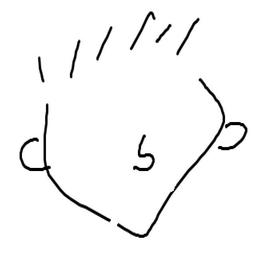ear: (14, 131, 55, 177), (211, 116, 250, 153)
nose: (127, 128, 159, 175)
